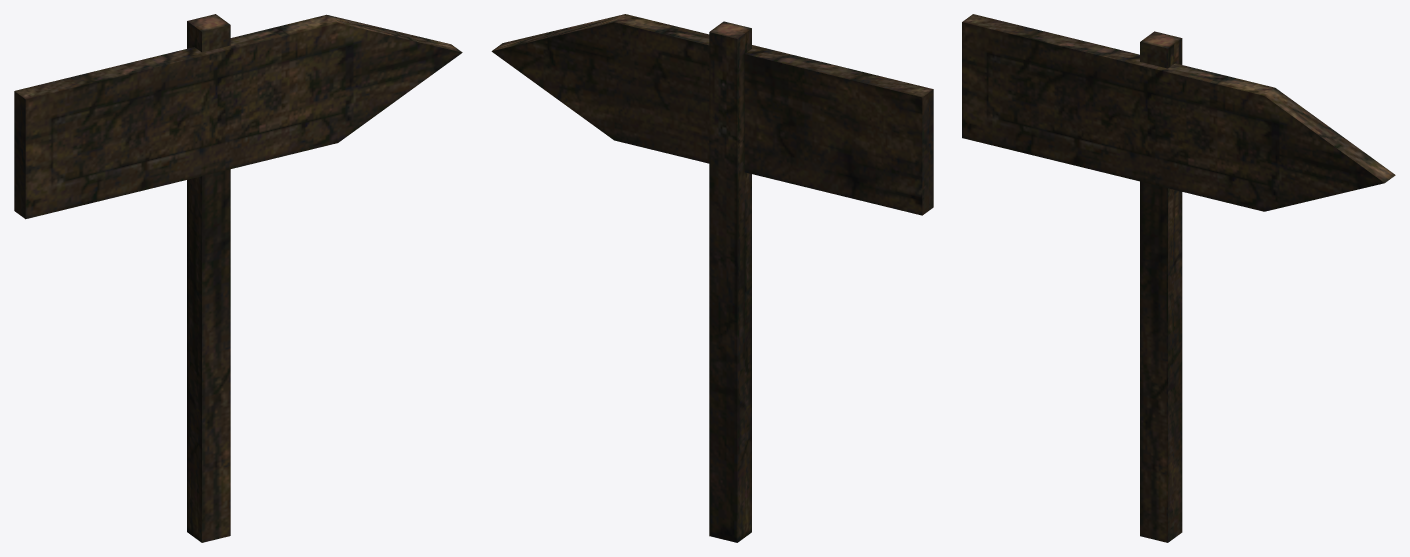
The model's file is sign_01.fbx.
3 renders of one model, left to right at view 1: azimuth 30°, elevation 25°; view 2: azimuth 150°, elevation 25°; view 3: azimuth 330°, elevation 25°, orthographic. The views are drawn at different scales.
Parts seen in each view (by area): view 1: sign01; view 2: sign01; view 3: sign01.
Part boxes in pixels (<box>): sign01: <box>14,14,462,542</box>; sign01: <box>491,14,933,542</box>; sign01: <box>962,14,1395,542</box>.
Size of the model in its own units: 1.36 by 1.51 by 0.1006.
